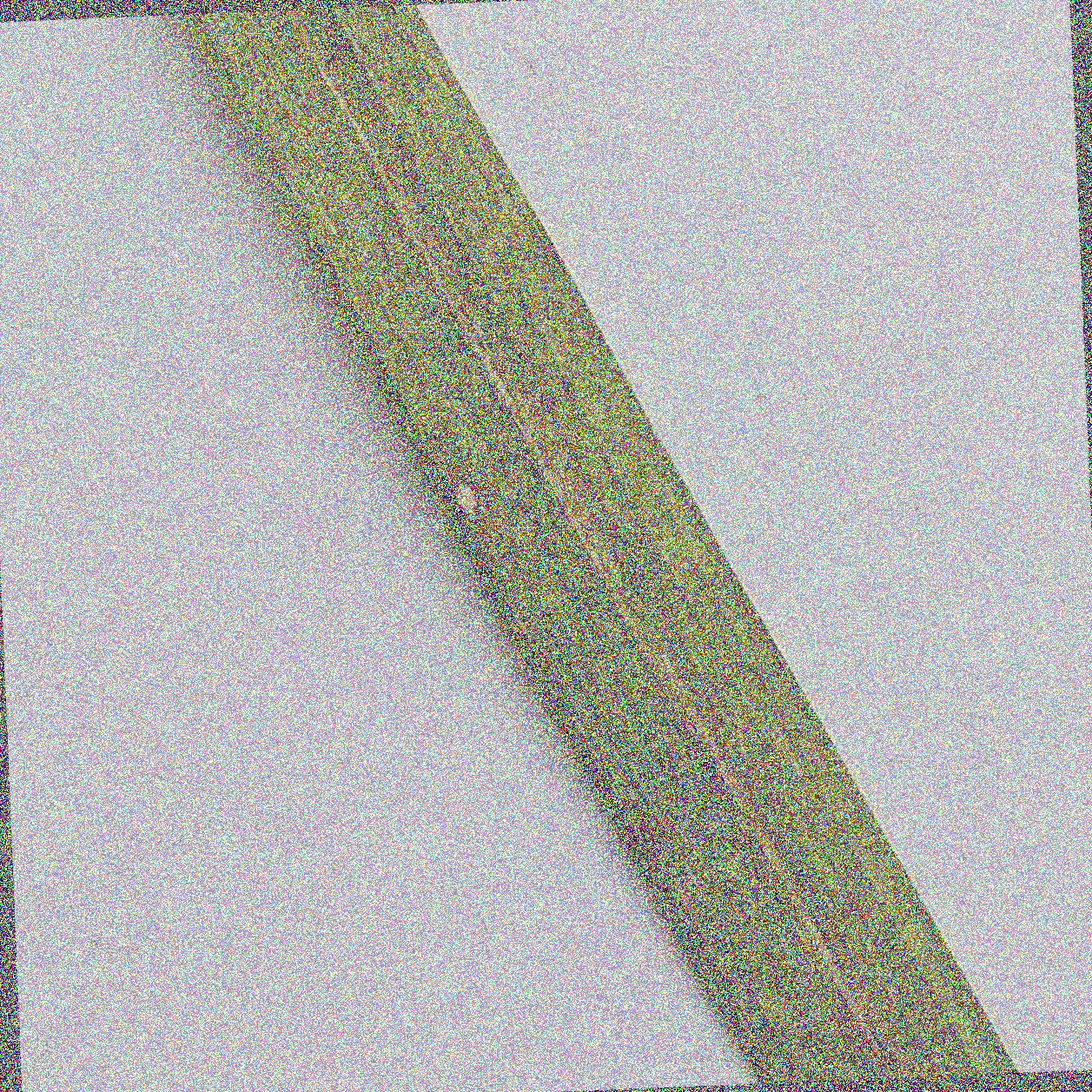Brown_Spot: (431, 430, 512, 531)
